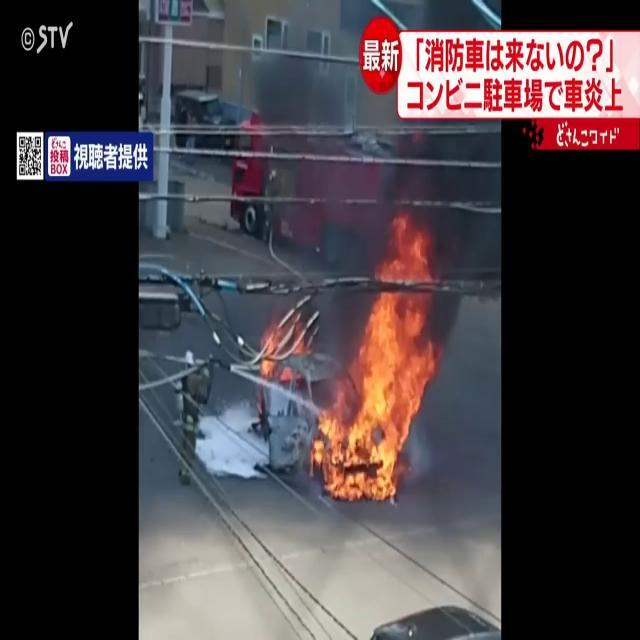Fire: (313, 214, 449, 502)
Smoke: (235, 34, 483, 282)
